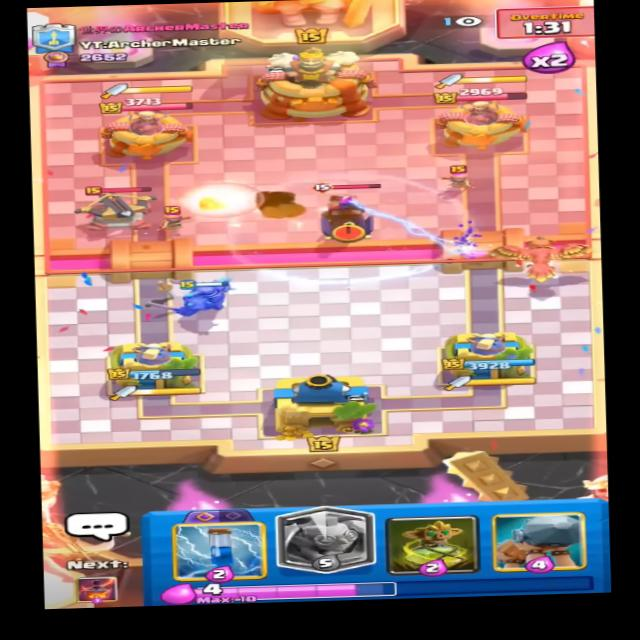archer: (153, 204, 187, 231), (439, 165, 474, 191)
evo-tesla: (301, 182, 390, 245)
x-bow: (73, 182, 160, 233)
